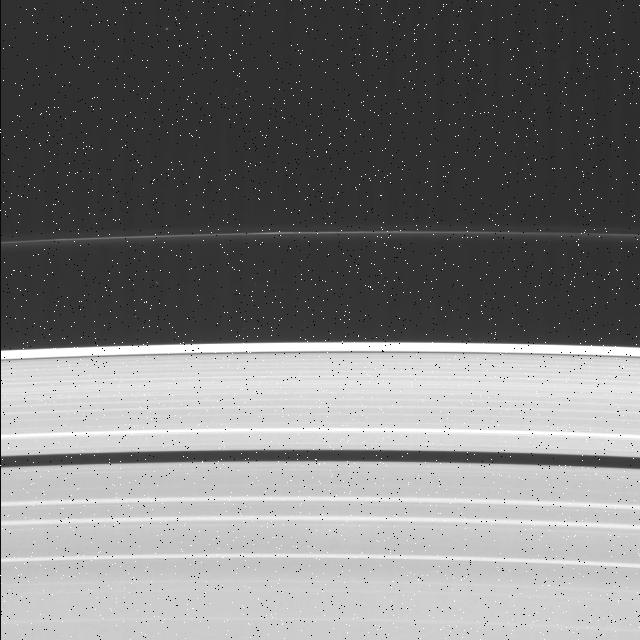Saturn: (0, 218, 640, 640)
